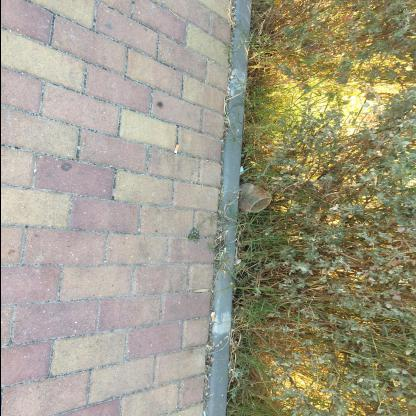plastik: (238, 184, 272, 214)
